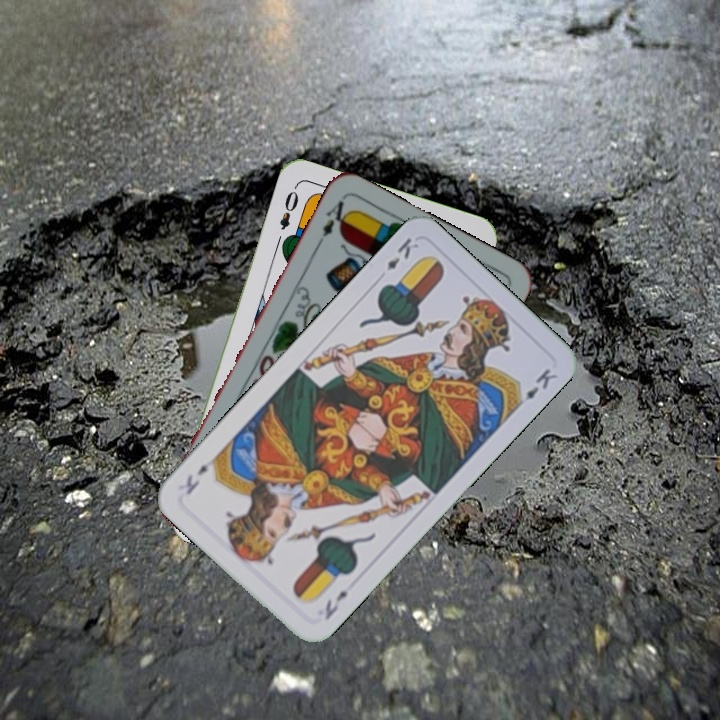EA: (312, 196, 353, 249)
EK: (382, 233, 422, 273), (320, 586, 351, 623)
EO: (275, 182, 301, 233)
